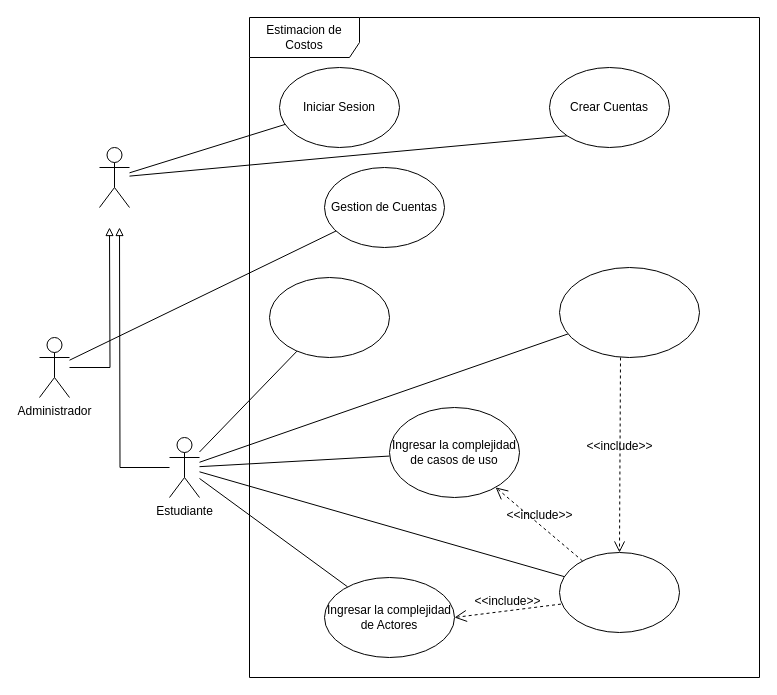
Image size: 777x695. Some labels were removed from this diagram. Each missing label, with the centre of its shape:
Calcular los puntos de Casos de Uso ajustados: point 629,312
Calcular los puntos de Casos de Uso sin ajustar: point 619,592
Creacion de Proyectos: point 329,317
Usuario: point 114,177
